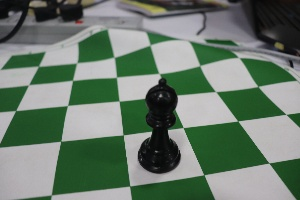black_bishop: (131, 65, 187, 177)
